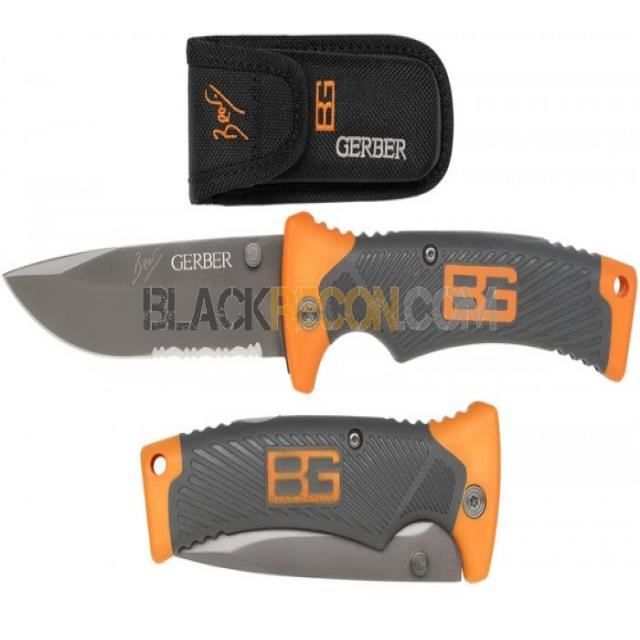knife: (3, 207, 640, 394)
